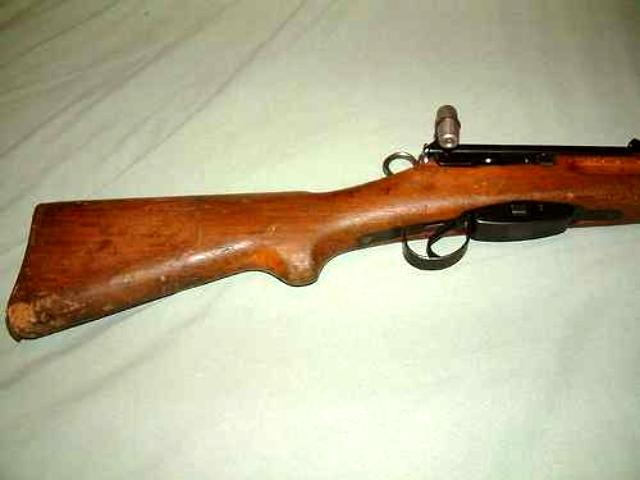rifle: (4, 95, 640, 349)
